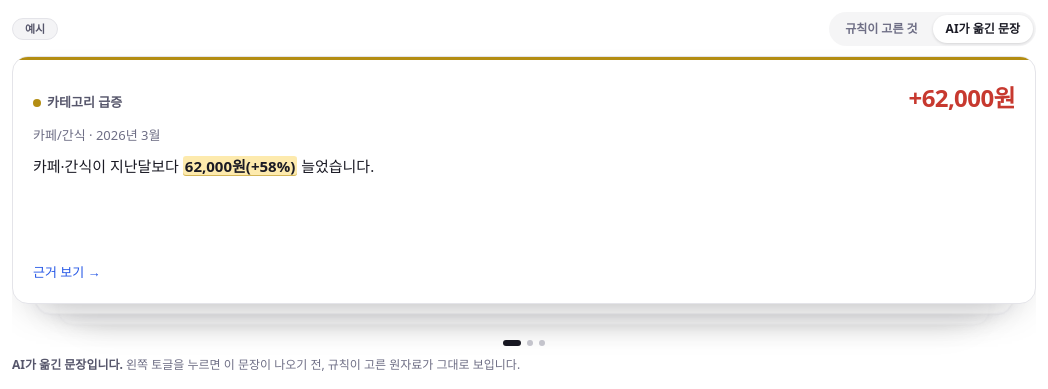
Test: InsightCardStack › swaps the sentence for the raw signal fields when the toggle is pressed
Step 1. Click the button "규칙이 고른 것" → [881, 29], box [832,15,931,43]
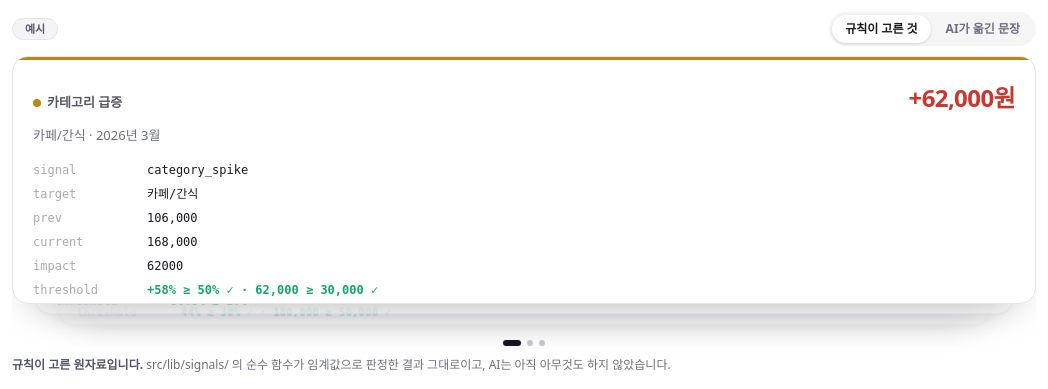
Expected: the text "category_spike" is shown, [147,162,248,176]
Expected: the text "카페·간식이 지난달보다" is gone
